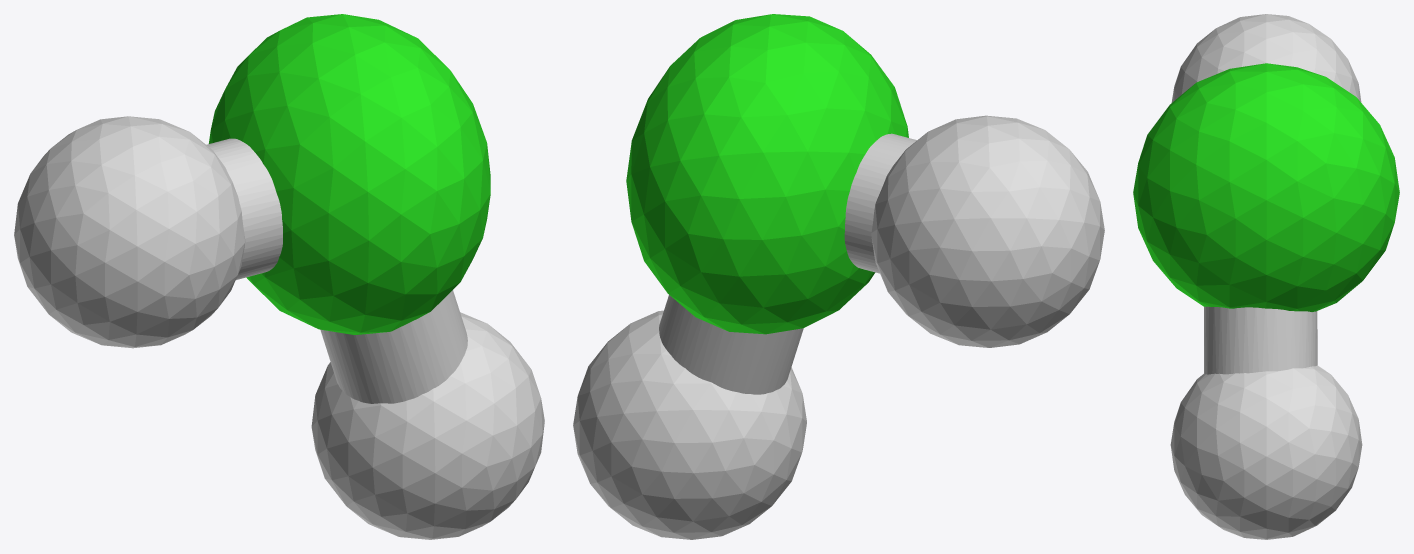
File: BeH2.glb
The picture shows the model from 3 angles, left to right: view 1: azimuth 30°, elevation 25°; view 2: azimuth 150°, elevation 25°; view 3: azimuth 270°, elevation 25°; orthographic projection. The views are drawn at different scales.
Parts seen in each view (by area): view 1: Shape_IndexedFaceSet, Shape_IndexedFaceSet.001, Shape_IndexedFaceSet.002, Shape_IndexedFaceSet.005, Shape_IndexedFaceSet.008; view 2: Shape_IndexedFaceSet, Shape_IndexedFaceSet.001, Shape_IndexedFaceSet.002, Shape_IndexedFaceSet.005, Shape_IndexedFaceSet.008; view 3: Shape_IndexedFaceSet, Shape_IndexedFaceSet.002, Shape_IndexedFaceSet.001, Shape_IndexedFaceSet.005.
Part boxes in pixels (left/top/right/bottom): Shape_IndexedFaceSet: left=208, top=14, right=490, bottom=334; Shape_IndexedFaceSet.001: left=14, top=116, right=245, bottom=348; Shape_IndexedFaceSet.002: left=311, top=312, right=544, bottom=539; Shape_IndexedFaceSet.005: left=320, top=290, right=467, bottom=403; Shape_IndexedFaceSet.008: left=206, top=138, right=282, bottom=279; Shape_IndexedFaceSet: left=626, top=14, right=908, bottom=334; Shape_IndexedFaceSet.001: left=871, top=115, right=1104, bottom=347; Shape_IndexedFaceSet.002: left=573, top=310, right=806, bottom=539; Shape_IndexedFaceSet.005: left=659, top=295, right=803, bottom=394; Shape_IndexedFaceSet.008: left=844, top=133, right=916, bottom=273; Shape_IndexedFaceSet: left=1133, top=63, right=1399, bottom=311; Shape_IndexedFaceSet.002: left=1170, top=365, right=1362, bottom=539; Shape_IndexedFaceSet.001: left=1171, top=14, right=1361, bottom=102; Shape_IndexedFaceSet.005: left=1204, top=306, right=1317, bottom=374.
Size of the model in its own units: 0.183 by 0.1827 by 0.1032.
